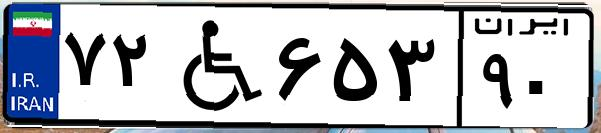0: (525, 38, 570, 115)
2: (110, 28, 158, 98)
3: (385, 28, 445, 110)
5: (330, 28, 385, 110)
6: (270, 28, 330, 110)
7: (57, 26, 110, 100)
9: (475, 38, 525, 113)
ژ (معلولین و جانبازان): (158, 12, 270, 120)
